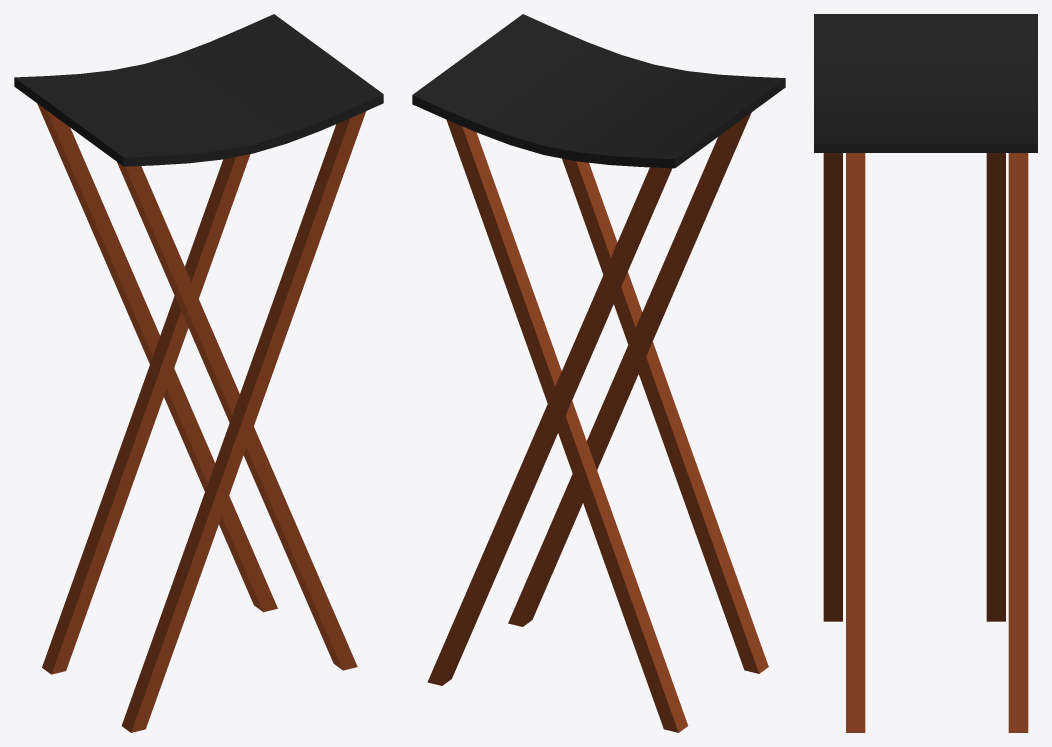
Rendered from Stool 1.fbx.
3 renders of one model, left to right at view 1: azimuth 30°, elevation 25°; view 2: azimuth 150°, elevation 25°; view 3: azimuth 270°, elevation 25°, orthographic. The views are drawn at different scales.
Parts seen in each view (by area): view 1: Stool; view 2: Stool; view 3: Stool.
Part boxes in pixels (x1,y1,x2,y2): Stool: (14,14,383,732); Stool: (412,14,785,732); Stool: (814,14,1037,732).
Size of the model in its own units: 41.28 by 88.31 by 30.14.
